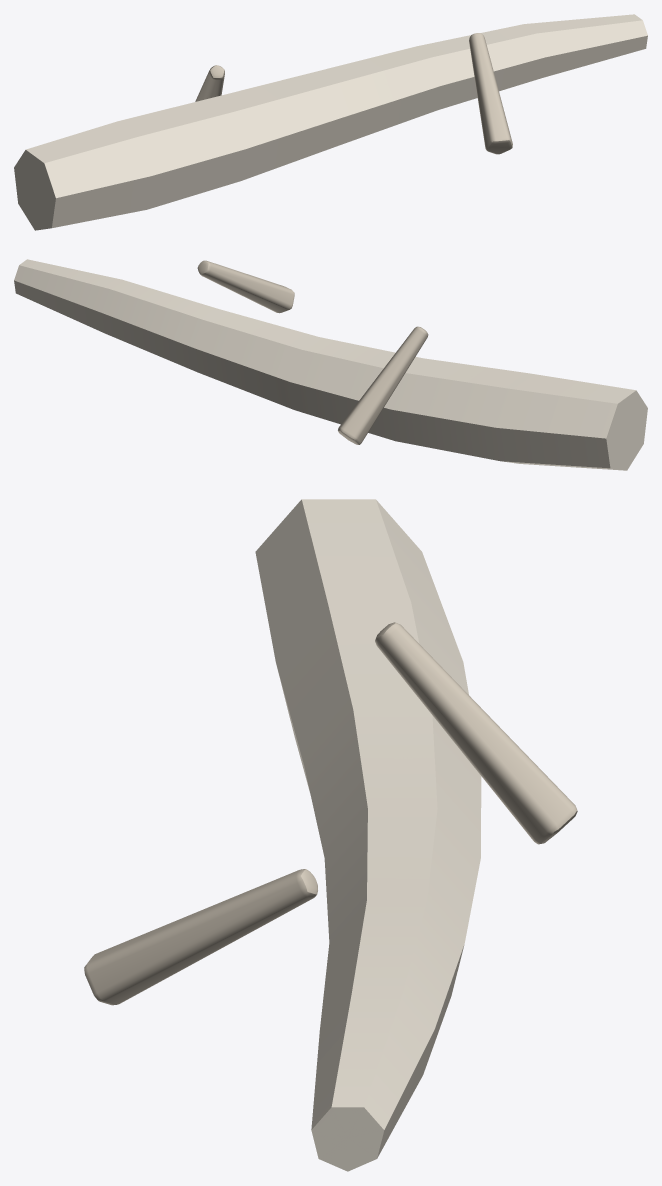
The model's file is Driftwood.fbx.
3 views of the same model, one above another, from view 1: azimuth 30°, elevation 25°; view 2: azimuth 150°, elevation 25°; view 3: azimuth 270°, elevation 25° (orthographic). The views are drawn at different scales.
Parts seen in each view (by area): view 1: Driftwood; view 2: Driftwood; view 3: Driftwood.
Boxes of the visible parts, left/top/right/bottom form: Driftwood: left=14, top=14, right=647, bottom=230; Driftwood: left=14, top=259, right=647, bottom=470; Driftwood: left=84, top=499, right=577, bottom=1171.
Size of the model in its own units: 2.6 by 0.4894 by 0.9233.
